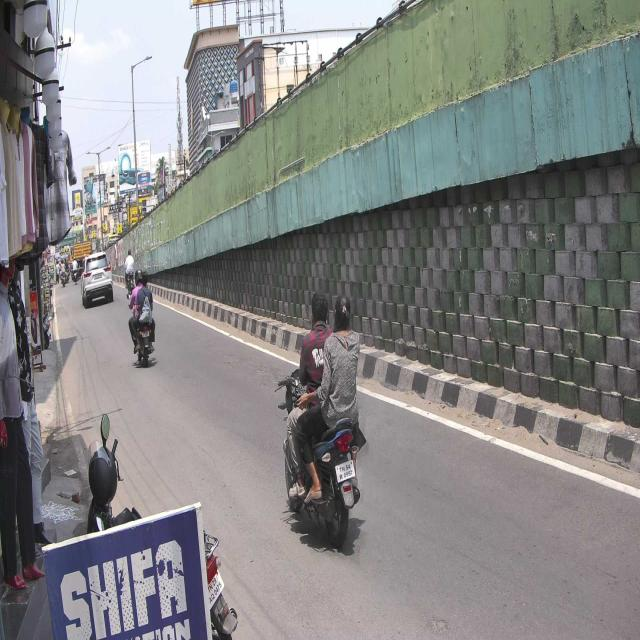double_rider: (276, 288, 364, 544)
